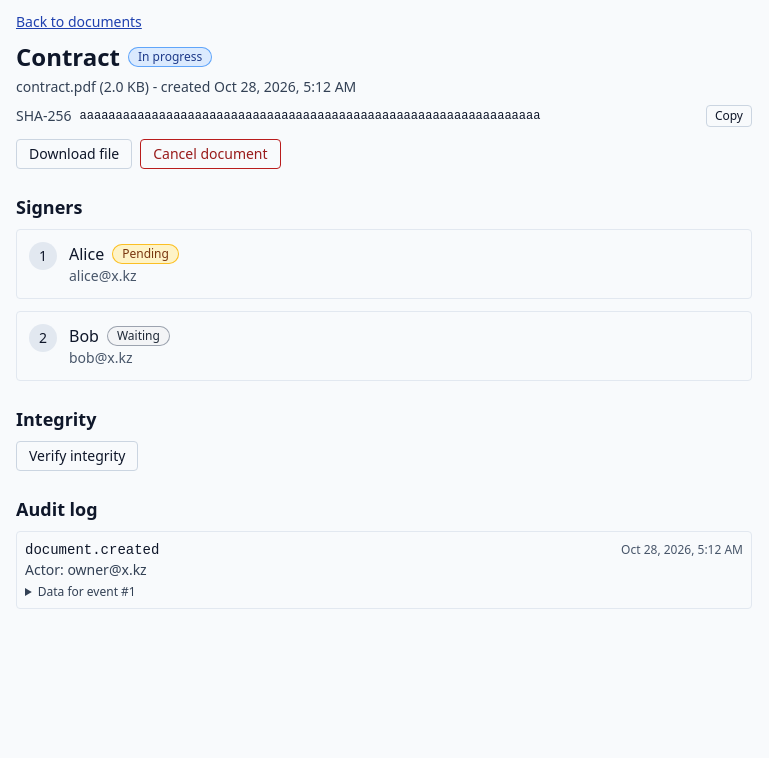
document detail › shows the fail banner and the failing checks
The width and height of the screenshot is (769, 758).
Click the button "Verify integrity" at (77, 456), box [16,441,138,471]
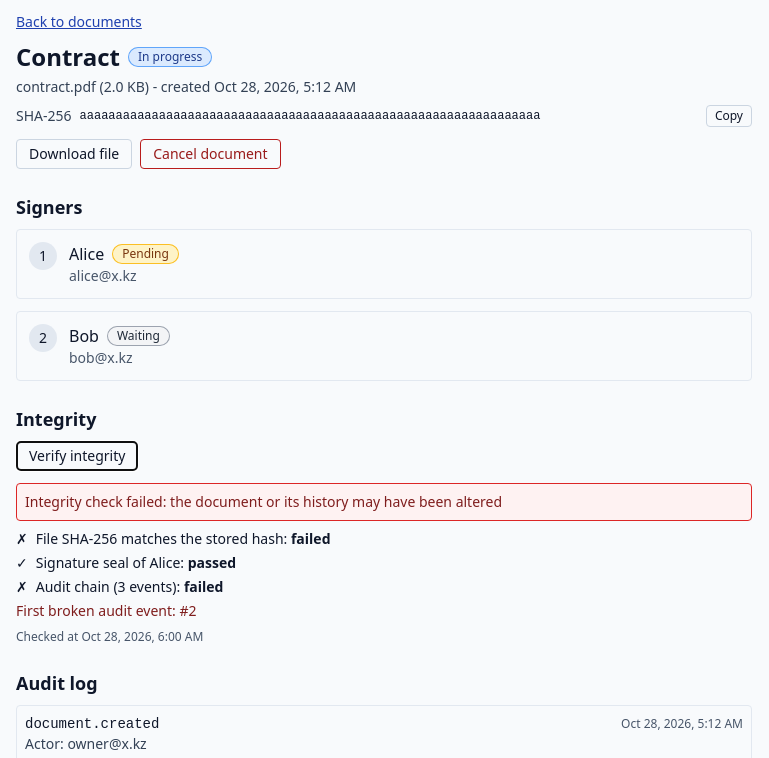
Result: the text "Integrity check failed: the document or its history may have been altered" is shown at [16,483,752,521]
Result: the text "failed" is shown 2 times at [291,529,331,548]; [184,577,224,596]
Result: the text "First broken audit event: #2" is shown at [16,601,196,620]
